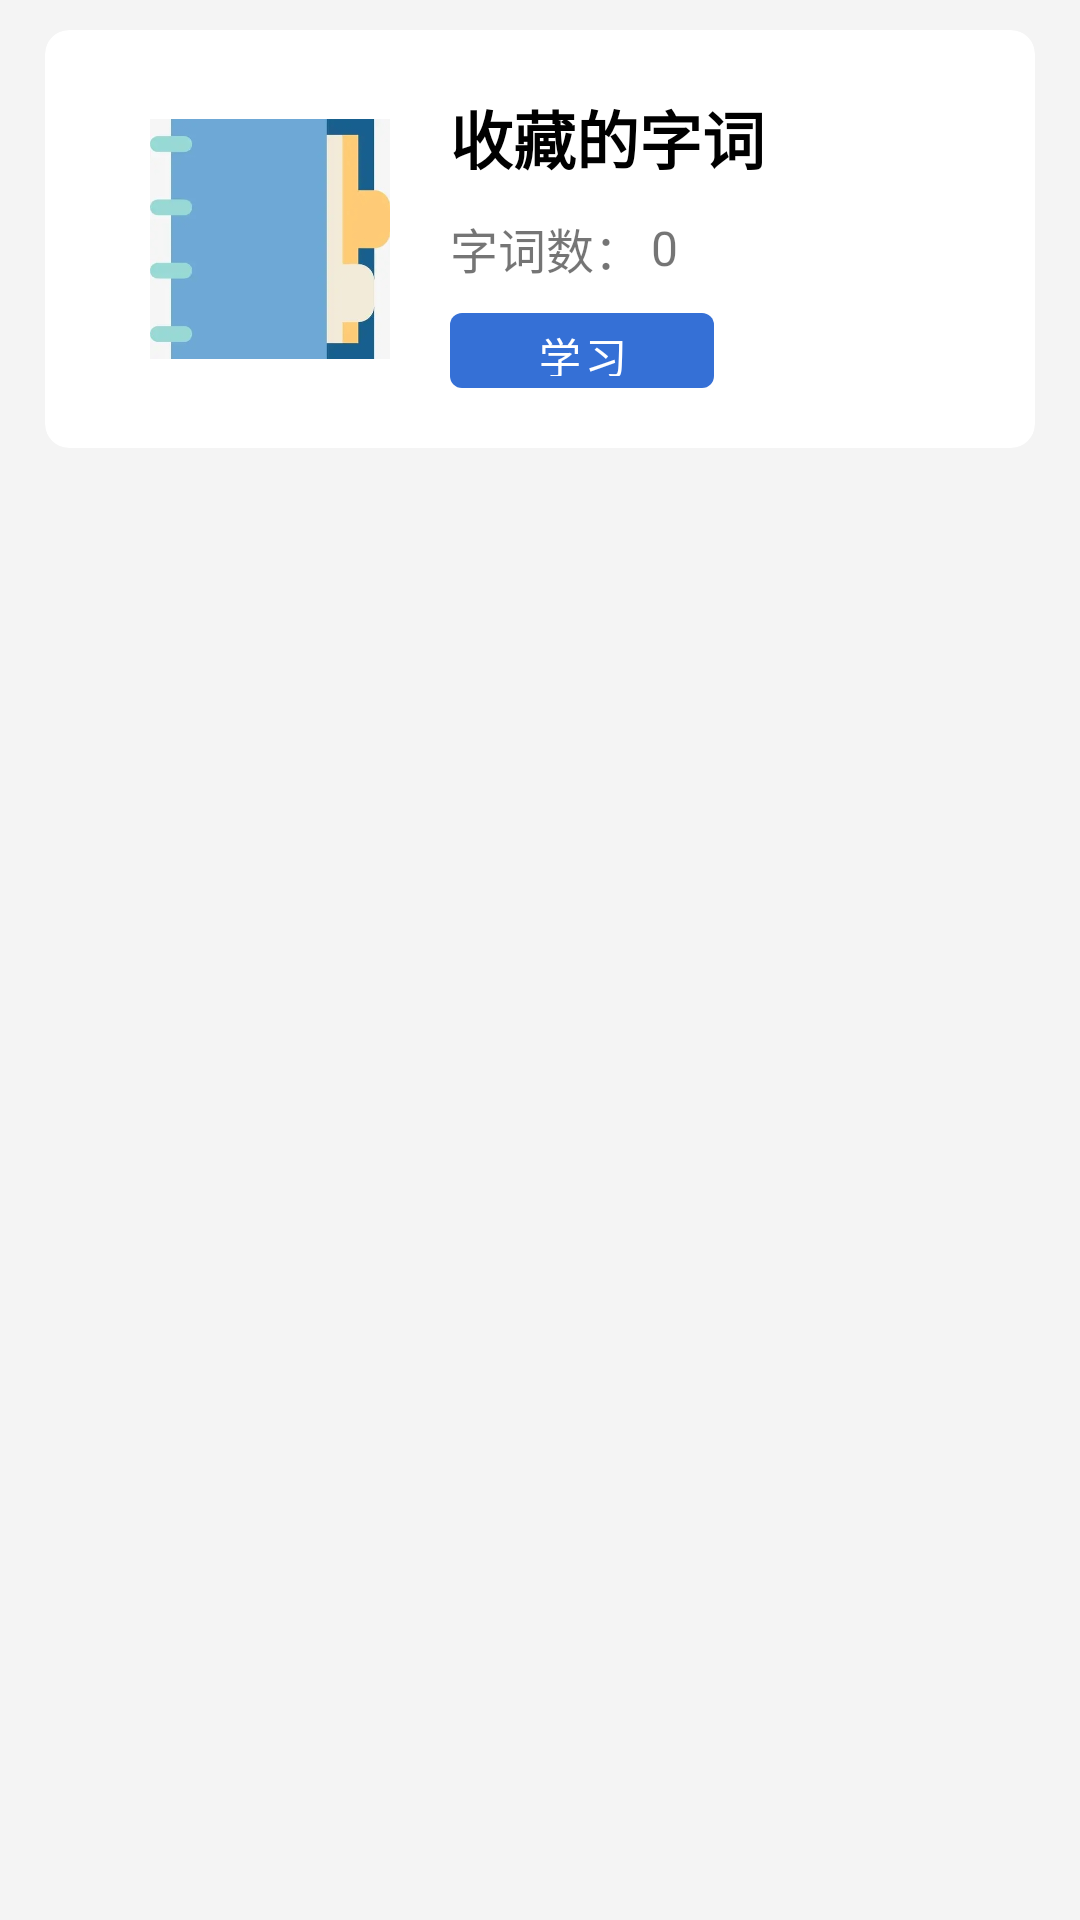

Screen size 1080 × 1920. Icon name, then its center in pixels as (x,y):
word book: (270,239)
